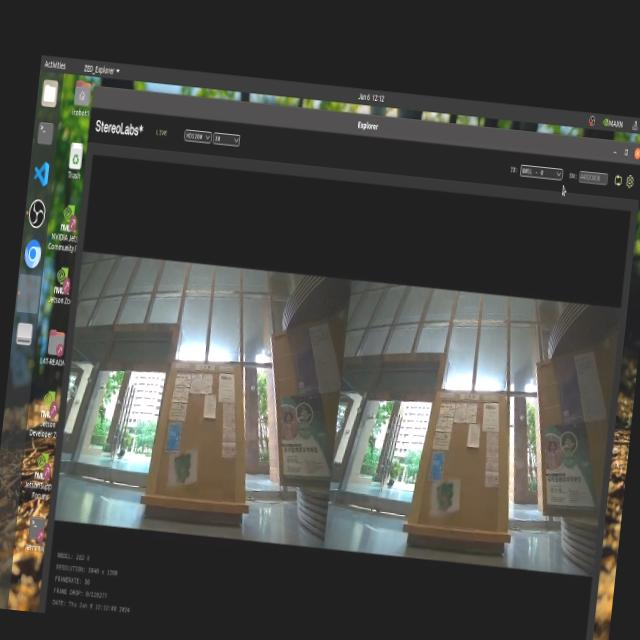green: (432, 475, 460, 518), (168, 456, 194, 486)
